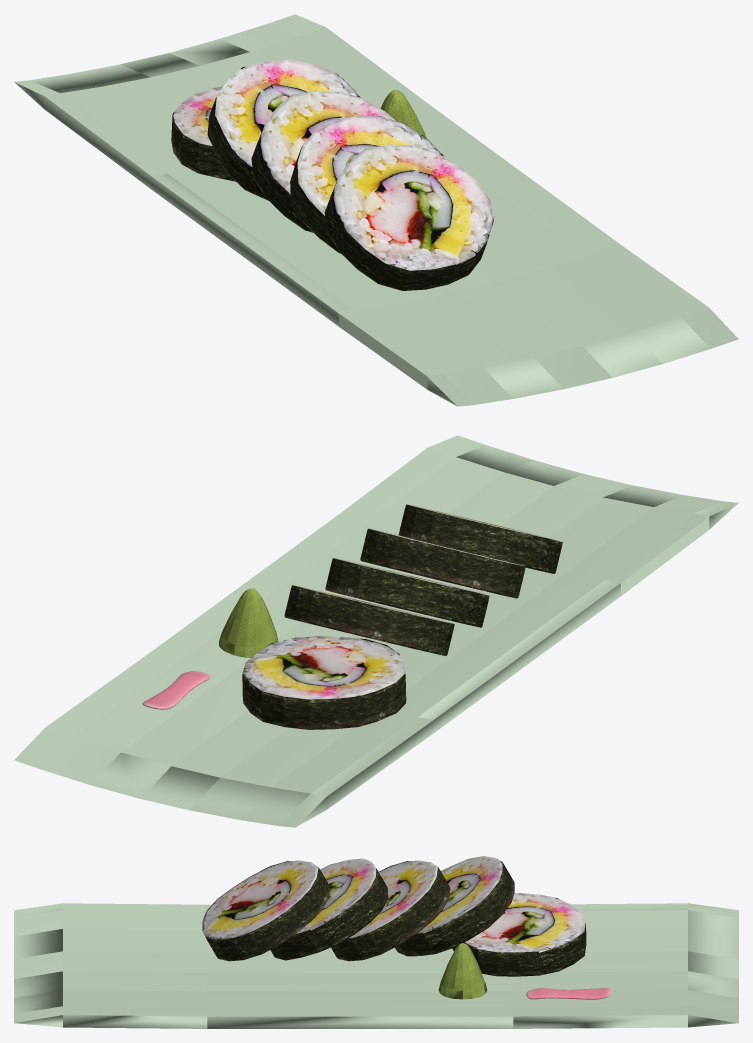
Rendered from Rolls.FBX.
3 renders of one model, top to bottom at view 1: azimuth 30°, elevation 25°; view 2: azimuth 150°, elevation 25°; view 3: azimuth 270°, elevation 25°, orthographic. The views are drawn at different scales.
Parts seen in each view (by area): view 1: plate, roll_piece008, roll_piece4, roll_piece5, roll_piece6, roll_piece7, wasabi; view 2: plate, roll_piece7, roll_piece4, roll_piece6, roll_piece5, roll_piece008, wasabi, ginger_piece; view 3: plate, roll_piece008, roll_piece7, roll_piece4, roll_piece6, roll_piece5, wasabi, ginger_piece.
Boxes of the visible parts, bbox=[...] form: plate: bbox=[14, 14, 738, 406]; roll_piece008: bbox=[324, 144, 493, 290]; roll_piece4: bbox=[207, 59, 360, 200]; roll_piece5: bbox=[290, 115, 443, 253]; roll_piece6: bbox=[251, 90, 395, 232]; roll_piece7: bbox=[171, 86, 235, 181]; wasabi: bbox=[380, 90, 426, 137]; plate: bbox=[14, 435, 738, 827]; roll_piece7: bbox=[242, 636, 406, 729]; roll_piece4: bbox=[284, 585, 454, 655]; roll_piece6: bbox=[325, 558, 489, 627]; roll_piece5: bbox=[360, 528, 525, 598]; roll_piece008: bbox=[398, 504, 562, 573]; wasabi: bbox=[219, 588, 278, 657]; ginger_piece: bbox=[142, 671, 209, 709]; plate: bbox=[14, 903, 738, 1028]; roll_piece008: bbox=[202, 860, 330, 961]; roll_piece7: bbox=[452, 892, 586, 976]; roll_piece4: bbox=[395, 856, 514, 956]; roll_piece6: bbox=[331, 860, 450, 961]; roll_piece5: bbox=[270, 858, 388, 960]; wasabi: bbox=[438, 943, 487, 999]; ginger_piece: bbox=[526, 988, 611, 999].
Bounding box in the file's own units: 9.69 × 4.2 × 26.46.
